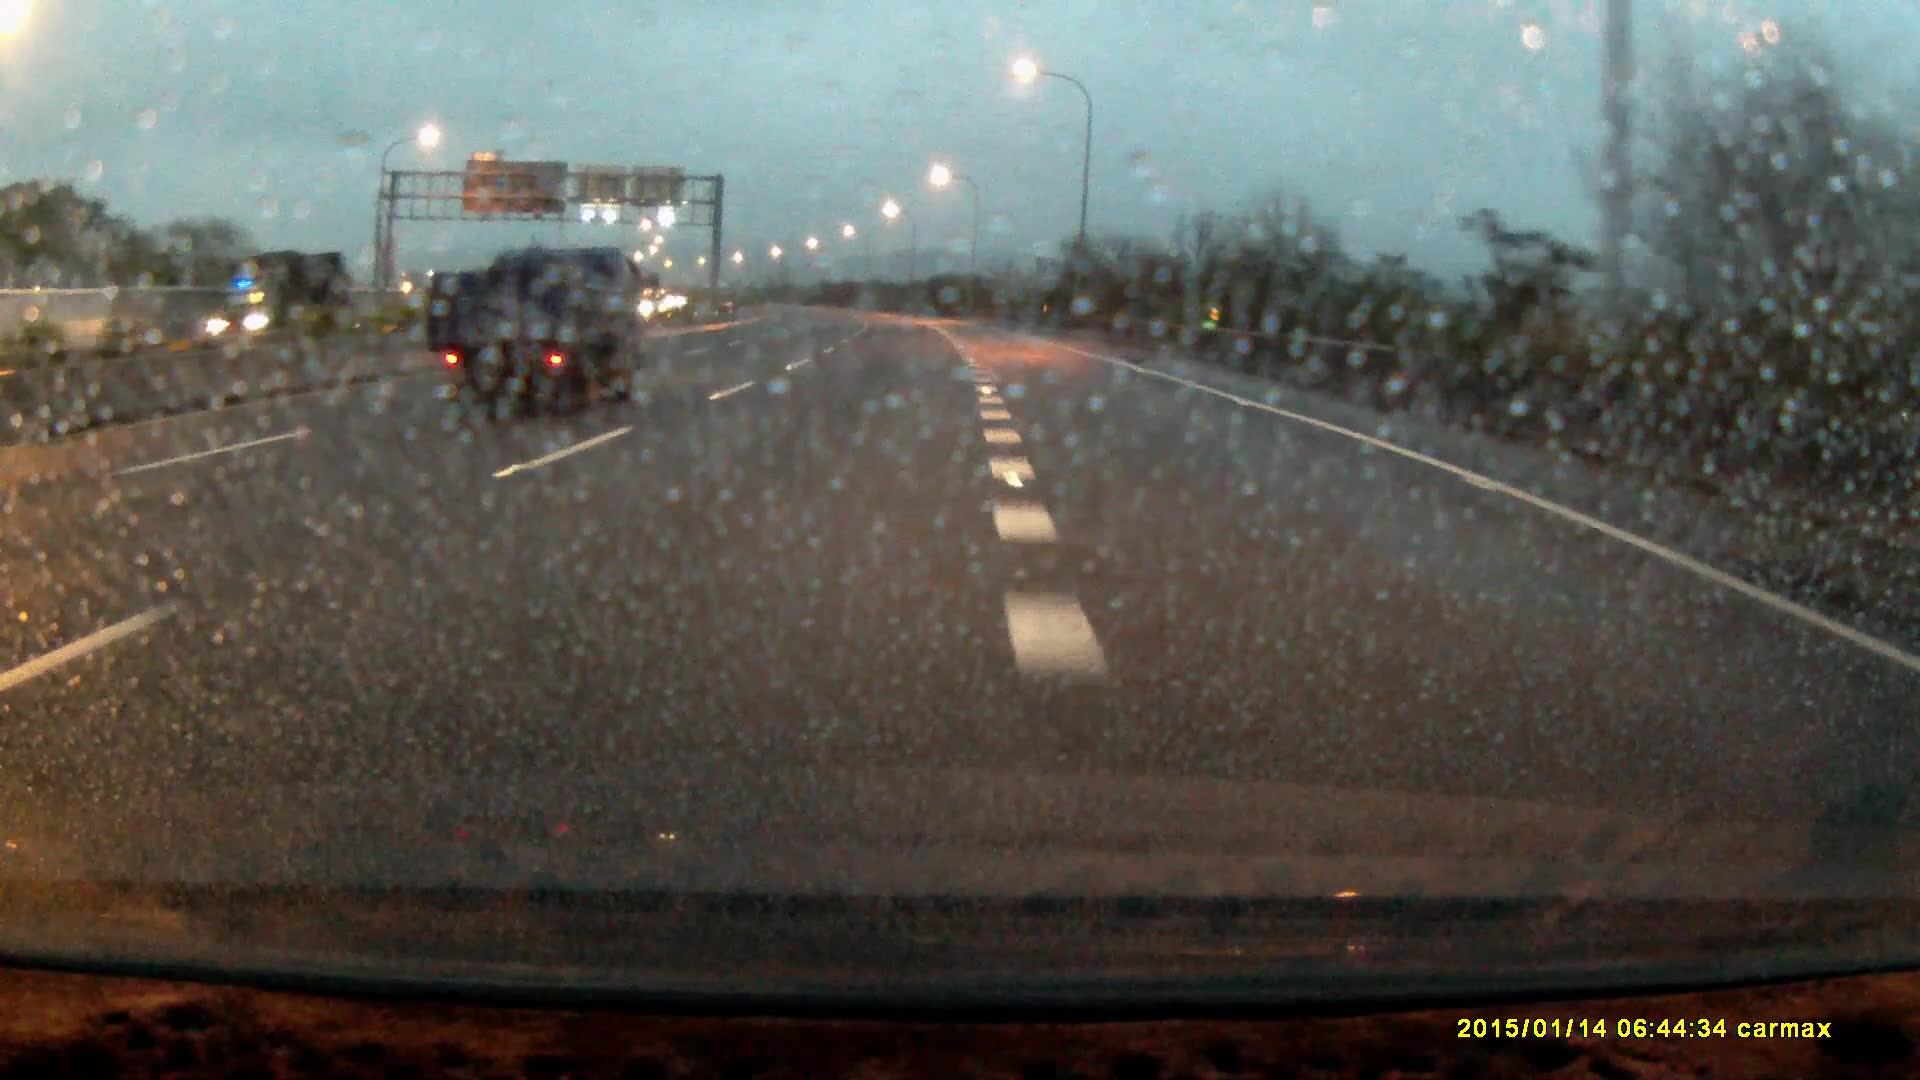vehicle: (425, 245, 640, 415), (196, 256, 349, 347)
